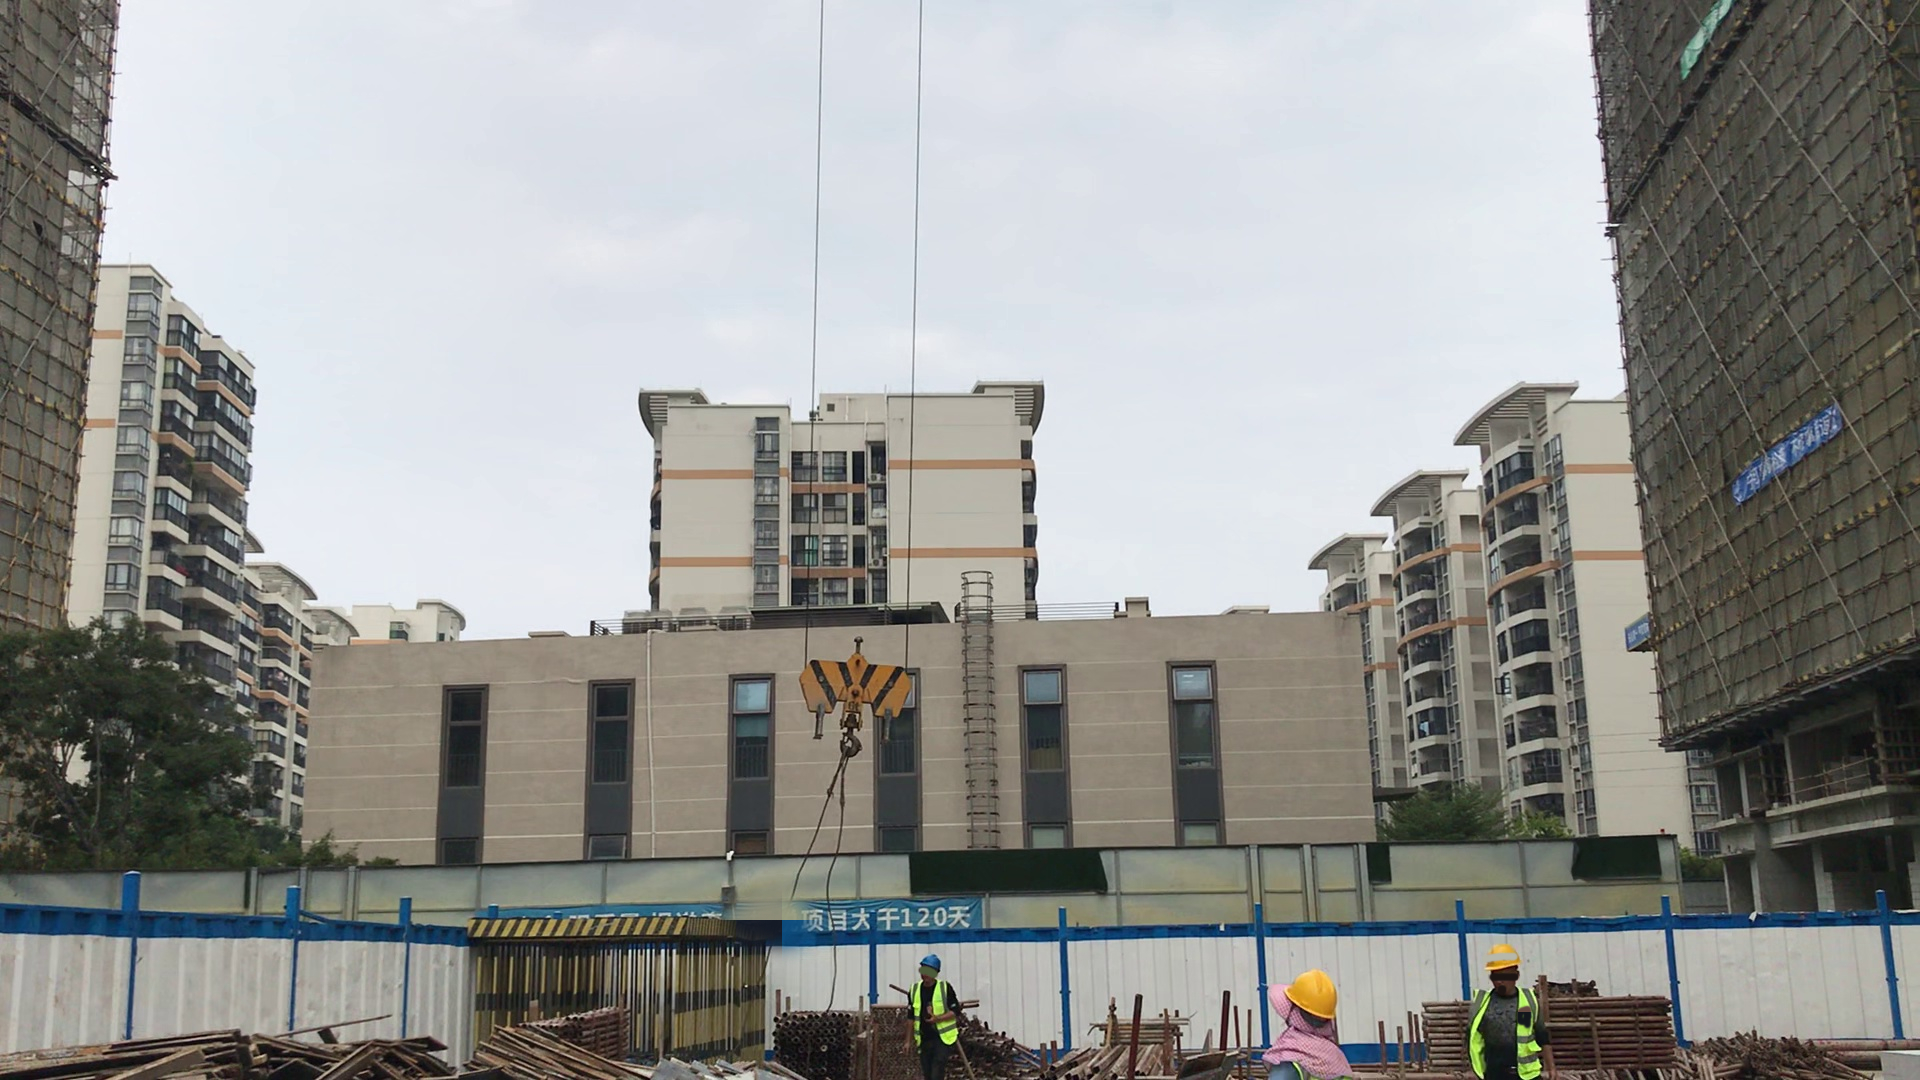helmet: (1279, 962, 1342, 1032), (1483, 941, 1531, 976), (917, 947, 948, 976)
hook: (799, 629, 917, 734)
person: (1464, 930, 1559, 1080), (1255, 961, 1370, 1080), (907, 947, 987, 1080)
scaffold: (1427, 993, 1679, 1070), (522, 991, 639, 1057), (772, 1001, 862, 1080), (1093, 1013, 1192, 1051)
slogan: (1714, 395, 1860, 499)
vest: (1462, 984, 1544, 1080), (912, 979, 969, 1061)
